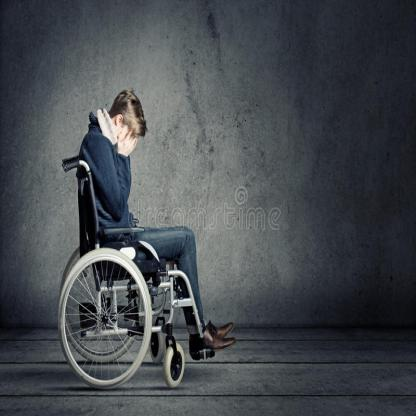wheelchair: (52, 84, 236, 399)
